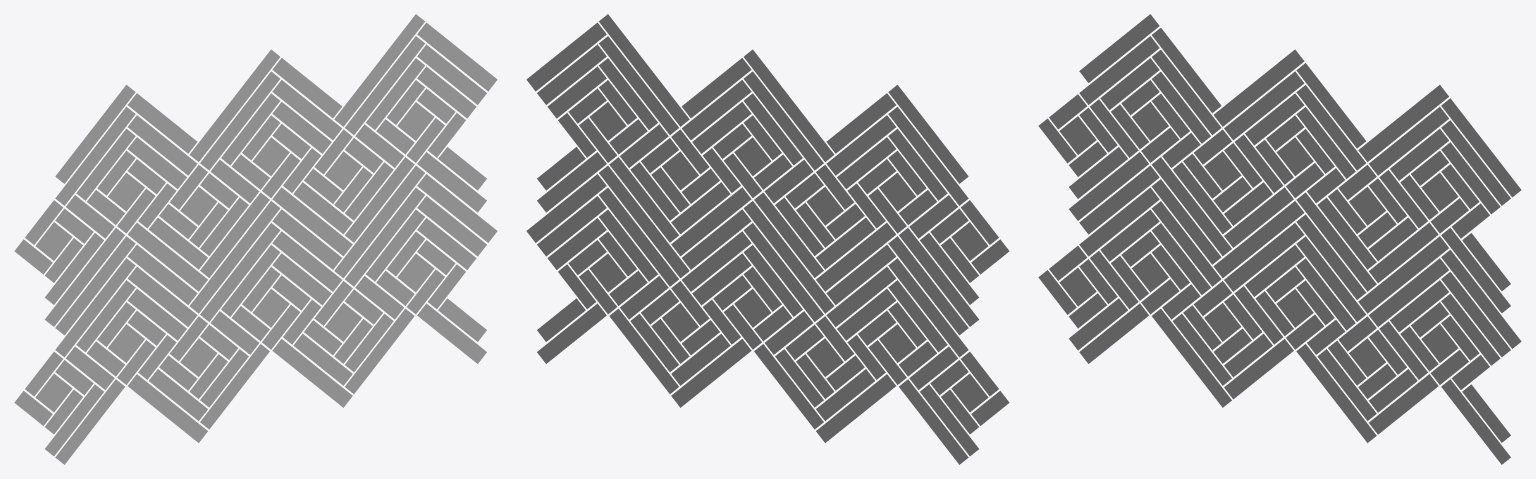
The model's file is sigma.gltf.
3 renders of one model, left to right at view 1: azimuth 30°, elevation 25°; view 2: azimuth 150°, elevation 25°; view 3: azimuth 330°, elevation 25°, orthographic.
Visible parts, largest first — view 1: sigma; view 2: sigma; view 3: sigma.
Part boxes in pixels (<box>): sigma: <box>14,14,497,464</box>; sigma: <box>526,14,1009,464</box>; sigma: <box>1038,14,1521,464</box>.
Size of the model in its own units: 465 by 346 by 0.
Materials: 132 (132 with a texture image).
